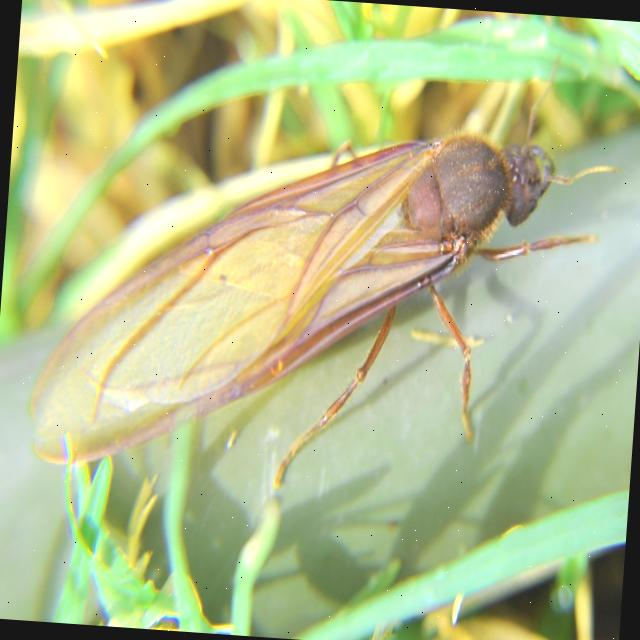Alive-Female-Alate: (24, 26, 636, 510)
